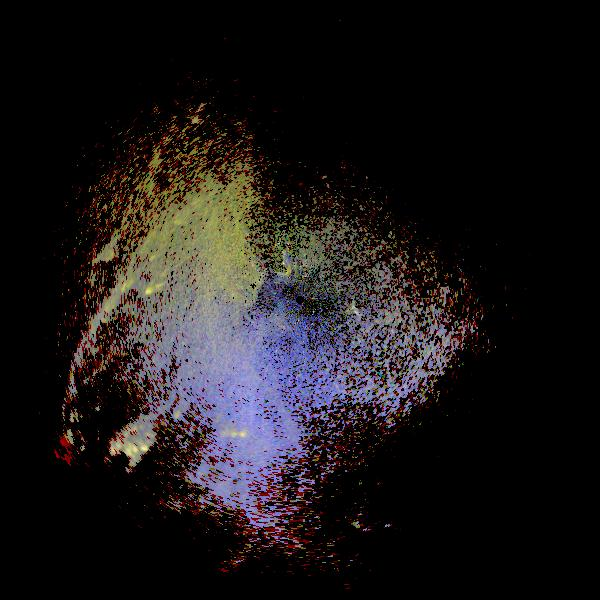roost: (346, 302, 364, 320)
